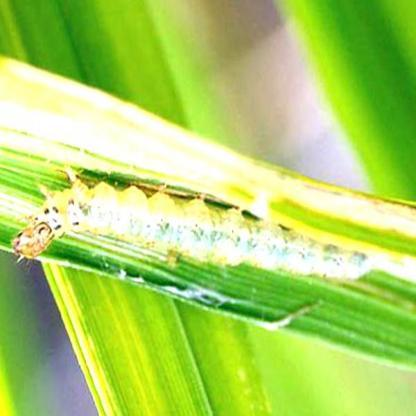leaf-folder: (11, 158, 392, 317)
